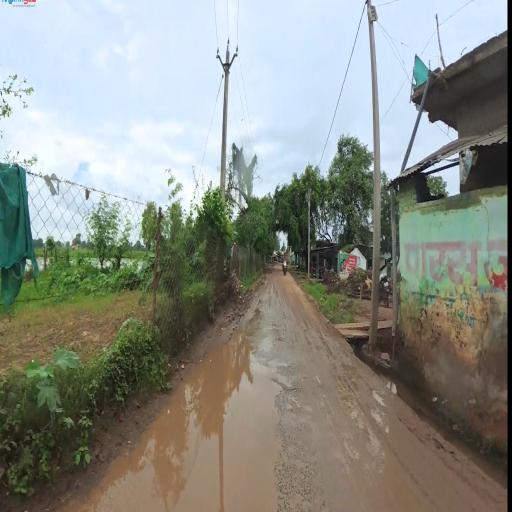ravelling: (270, 342, 328, 509)
